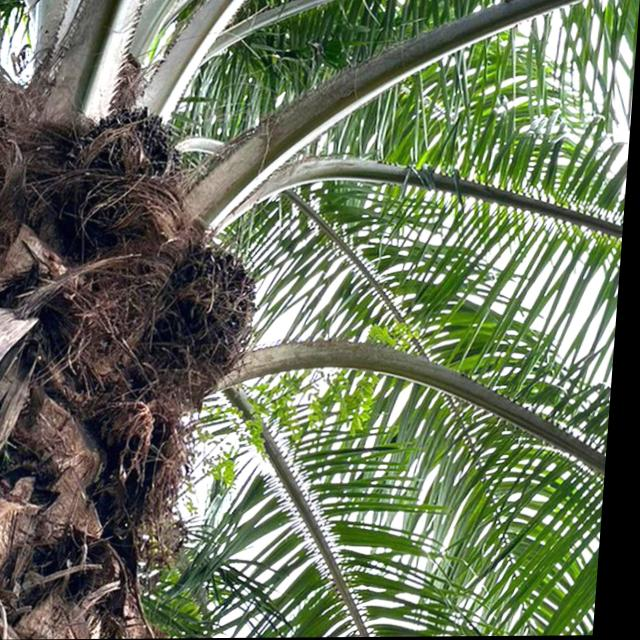almost: (149, 235, 277, 376)
